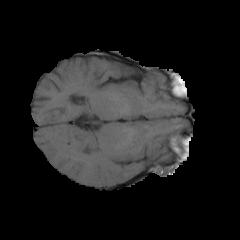glioma: (49, 133, 118, 165)
